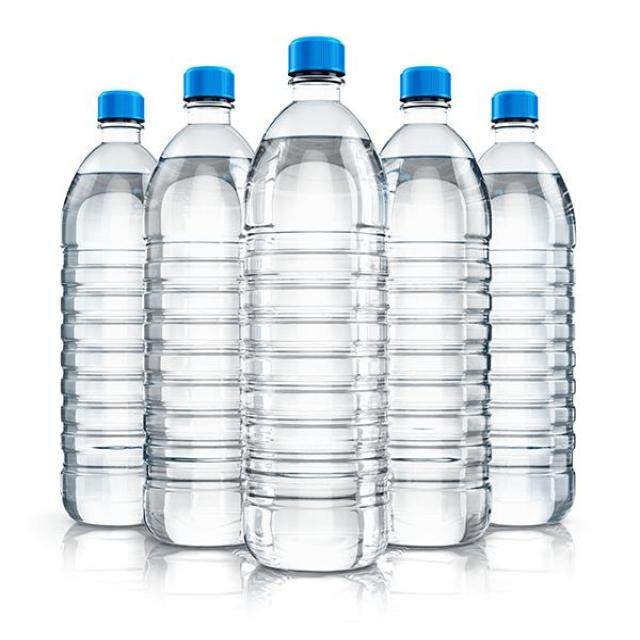plastic bottle: (239, 80, 388, 574), (376, 101, 492, 552), (143, 104, 258, 550), (472, 123, 580, 530), (61, 122, 161, 528)
plastic bottle cap: (290, 36, 346, 78), (399, 64, 452, 106), (181, 66, 235, 105), (98, 89, 147, 125), (492, 89, 538, 123)
